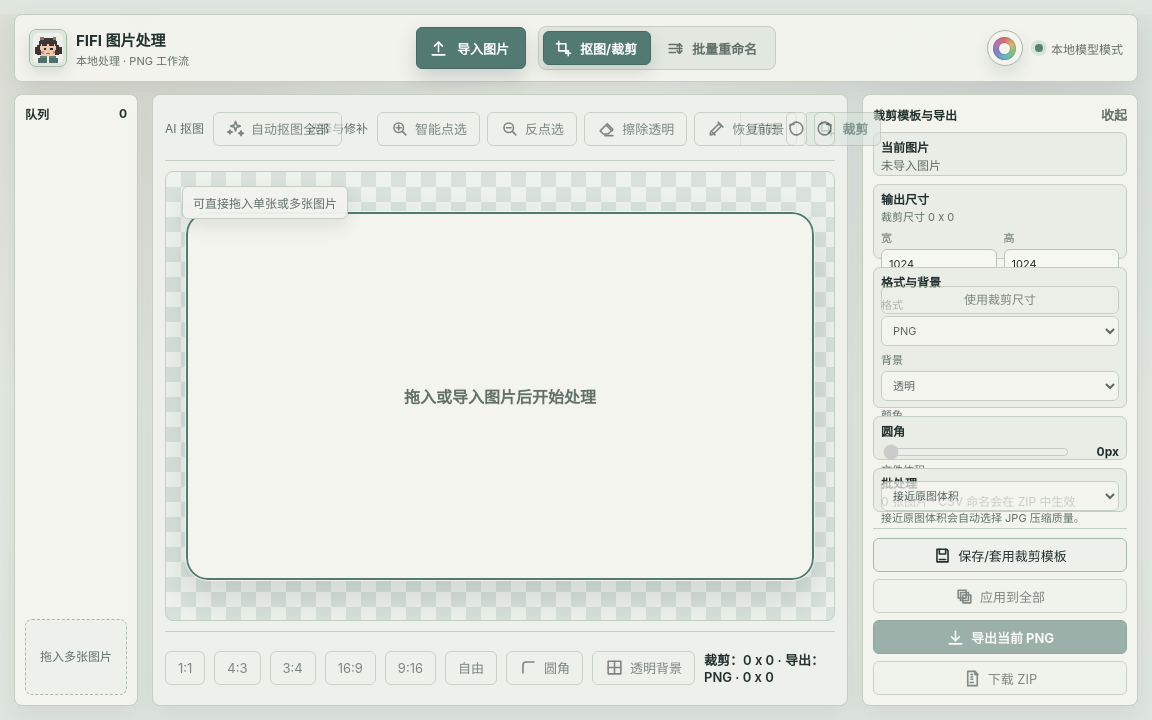
Test: App layout › opens the rename workspace from the top bar
The image size is (1152, 720).
Click the button "批量重命名".
click(713, 48)  # box [655,31,771,65]
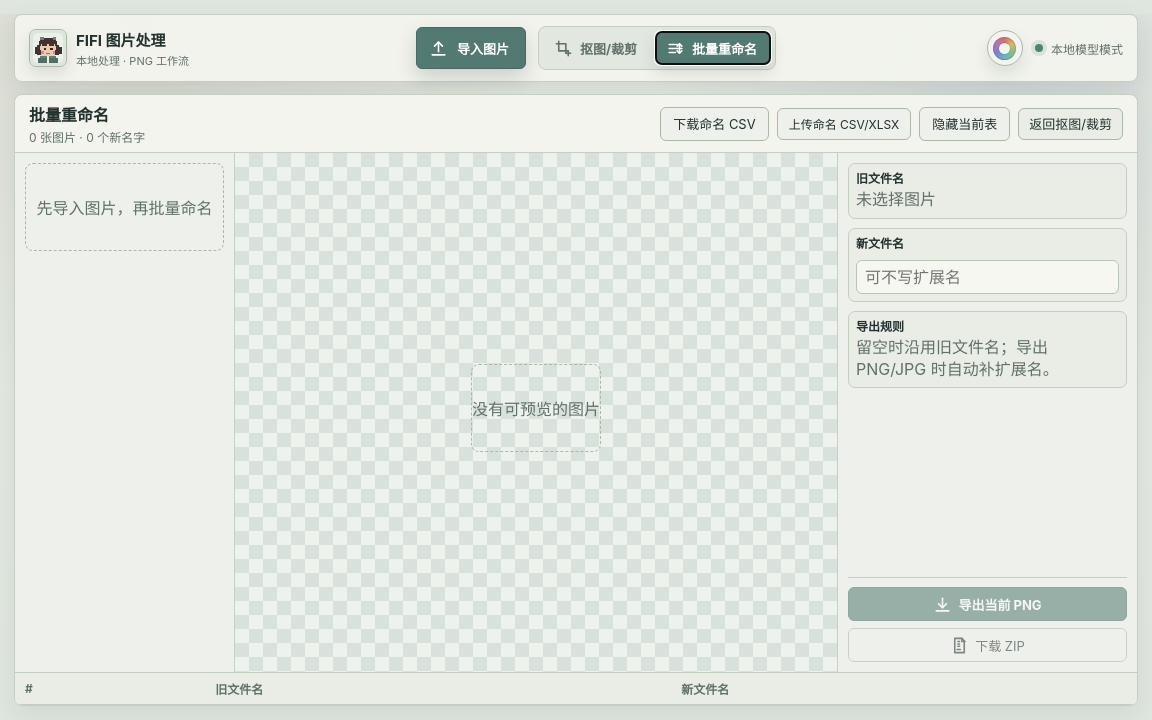
Result: the element named "批量重命名工作区" is shown
Result: the button "下载命名 CSV" is shown at [660,106,769,140]
Result: the file field labelled "上传命名 CSV/XLSX" is shown at [777,108,911,140]
